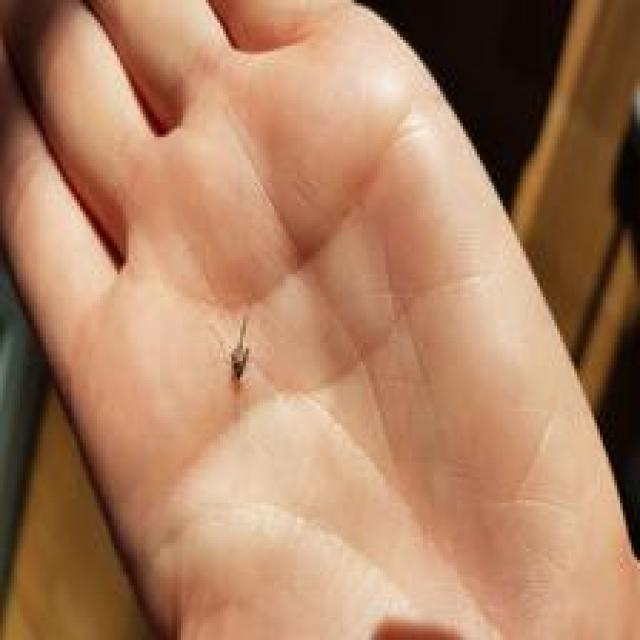Aedes albopictus: (227, 316, 253, 387)
